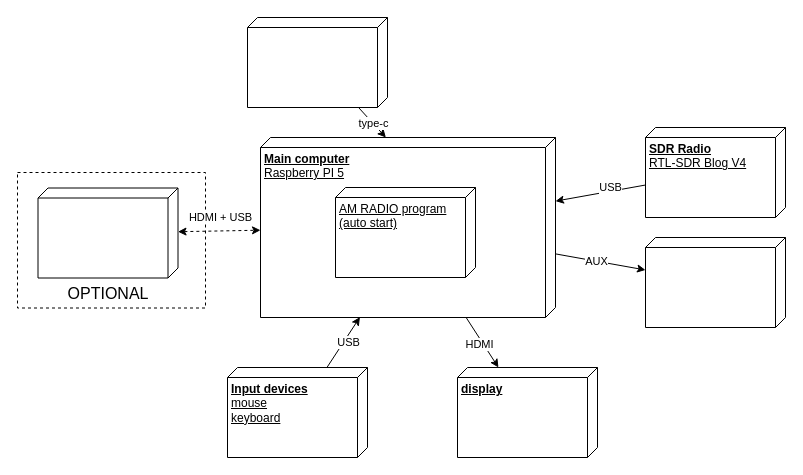
Some shapes in this 803 by 475 pixel diagram are drawn without their labels. The shapes that lost their labels are listed below. From the top down, each one's centre as x and y in pixels, then its label:
At pixel 317 62: "Power Input powebank/power adapter min 15w".
At pixel 107 232: "display + IO 10 inch display with touch screen".
At pixel 715 282: "Speaker".
